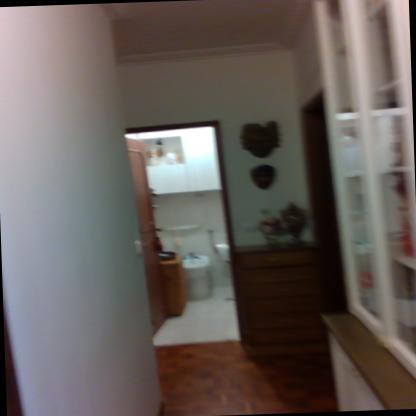open: (107, 112, 249, 354)
